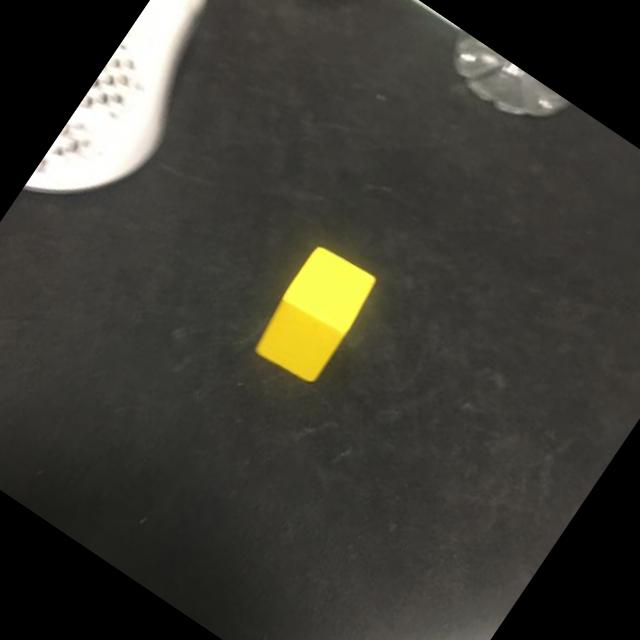yellow: (248, 242, 382, 388)
